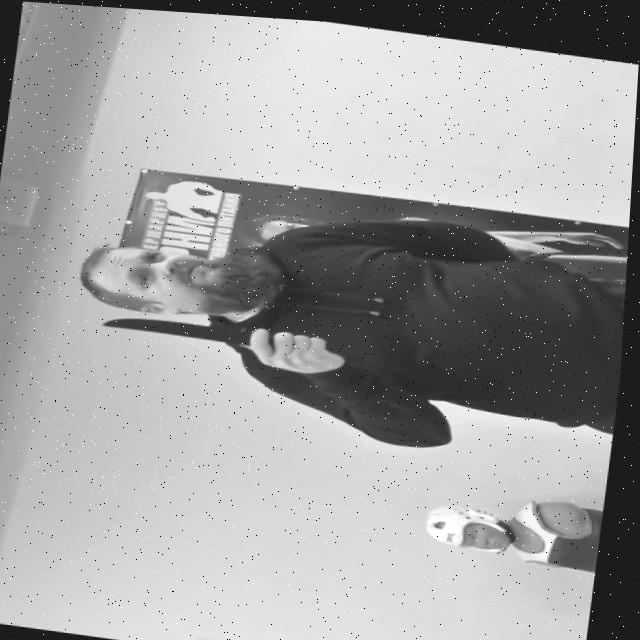knife: (94, 302, 256, 350)
